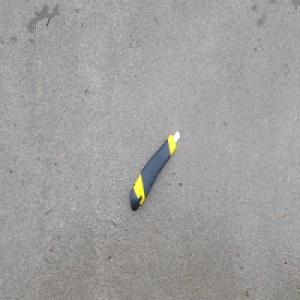Cutter: (129, 128, 181, 212)
